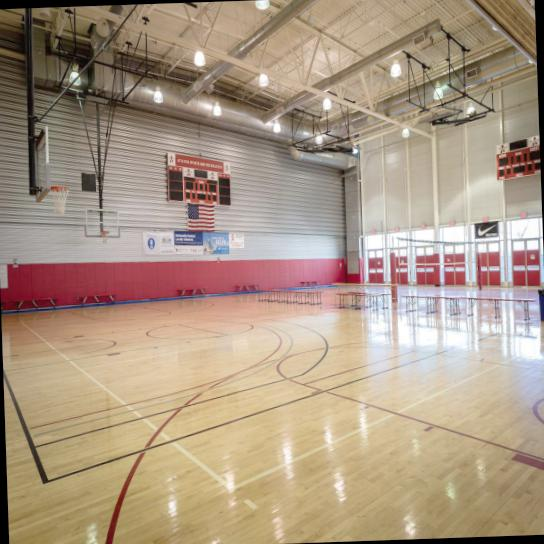basketball-hoop: (50, 183, 72, 216)
